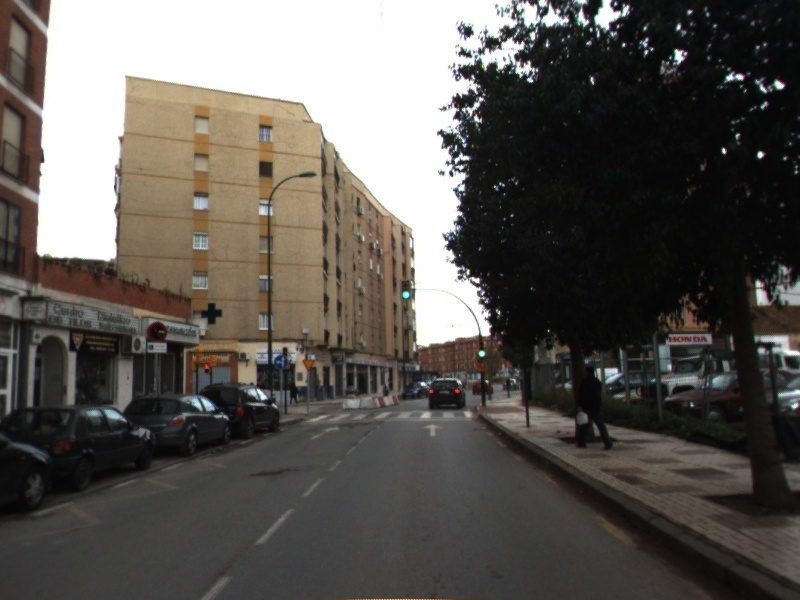STRAIGHT: (307, 424, 341, 442), (420, 422, 445, 439)
